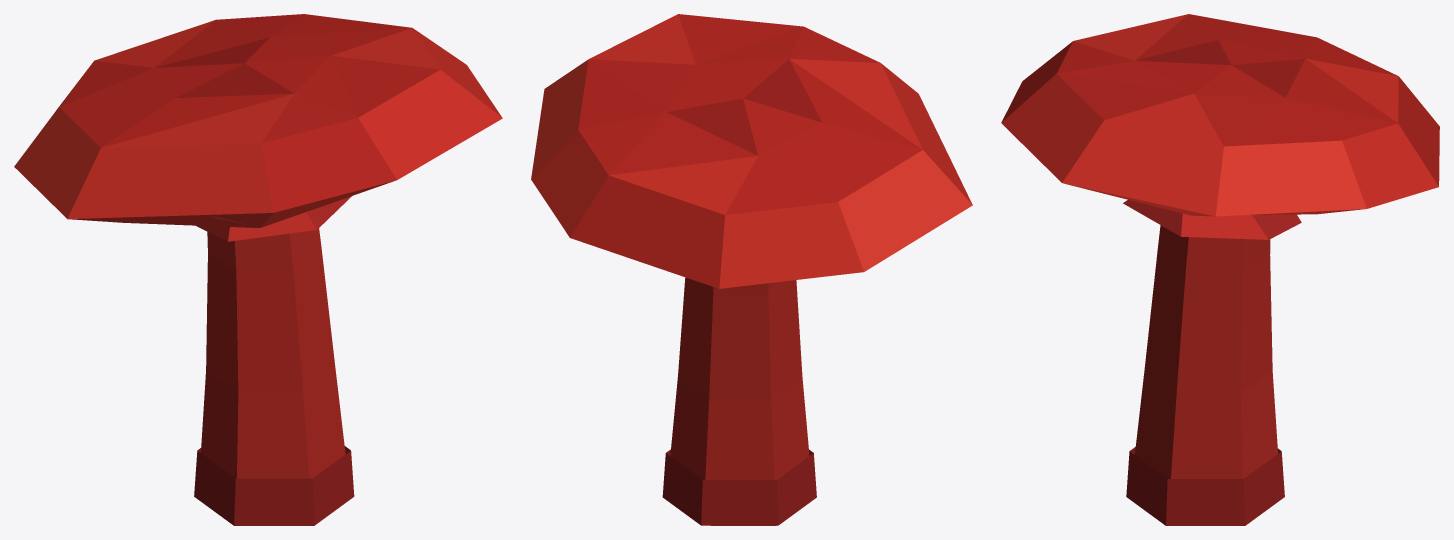
Rendered from mushroom_red2.fbx.
3 views of the same model, side by side, from view 1: azimuth 30°, elevation 25°; view 2: azimuth 150°, elevation 25°; view 3: azimuth 270°, elevation 25° (orthographic). The views are drawn at different scales.
Parts seen in each view (by area): view 1: mushroom_red2; view 2: mushroom_red2; view 3: mushroom_red2.
Boxes of the visible parts, x1,y1,x2,y2 form: mushroom_red2: [14, 14, 502, 525]; mushroom_red2: [531, 14, 972, 525]; mushroom_red2: [1001, 14, 1439, 525].
Size of the model in its own units: 29.28 by 29.04 by 26.62.
